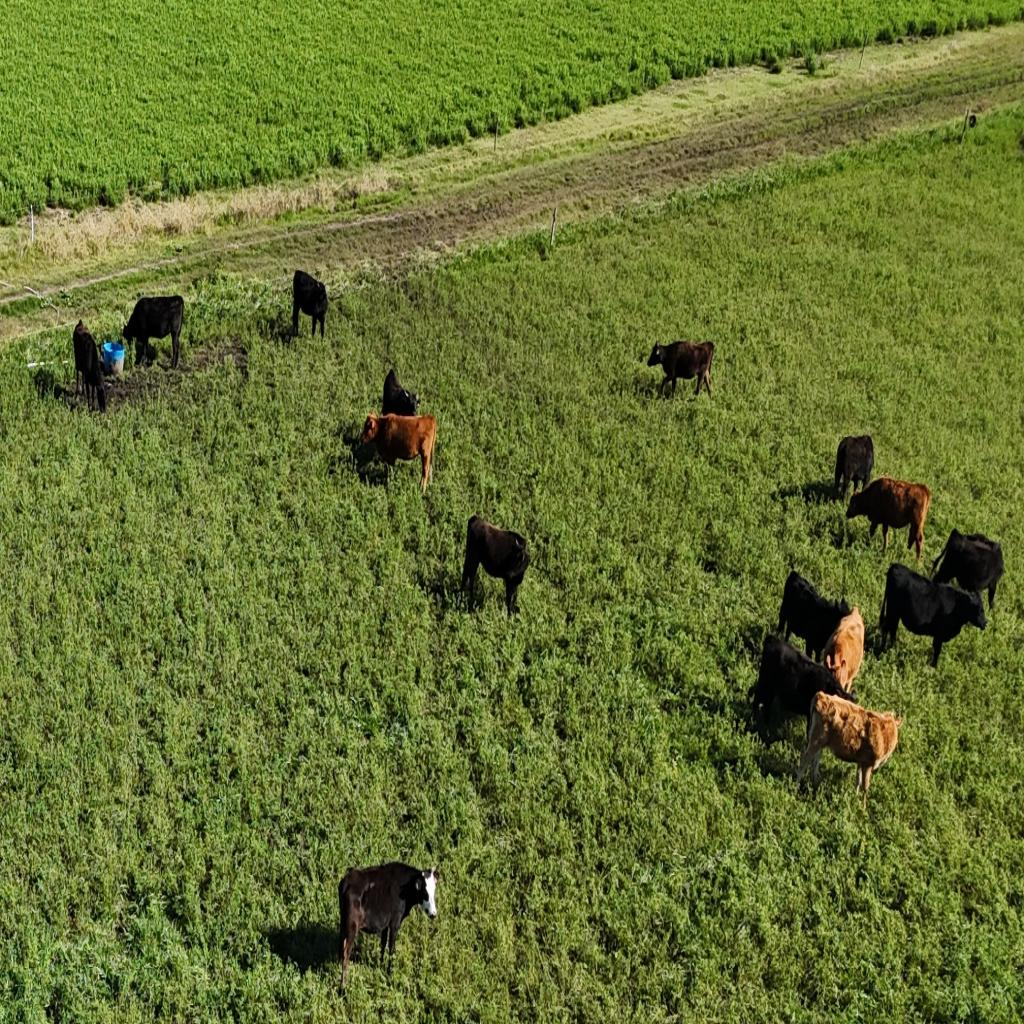cow: (336, 858, 440, 986), (796, 693, 904, 805), (878, 563, 986, 670), (750, 634, 855, 741), (775, 571, 855, 663), (844, 476, 930, 560), (460, 514, 528, 615), (358, 412, 438, 495), (931, 529, 1004, 611), (122, 294, 184, 370), (648, 339, 713, 402), (72, 318, 108, 414), (832, 434, 874, 502), (291, 270, 329, 340), (382, 368, 422, 419)
